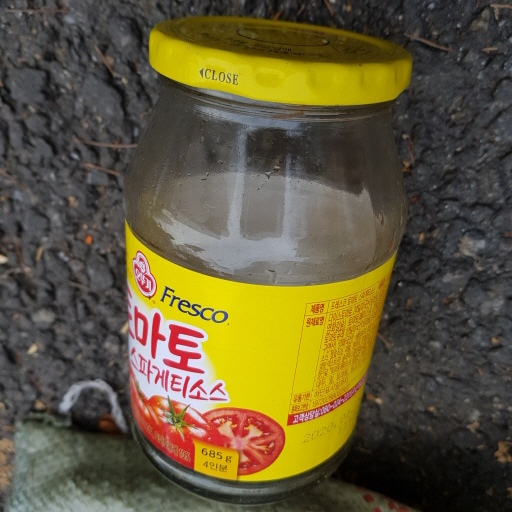Glass_5: (122, 18, 413, 501)
